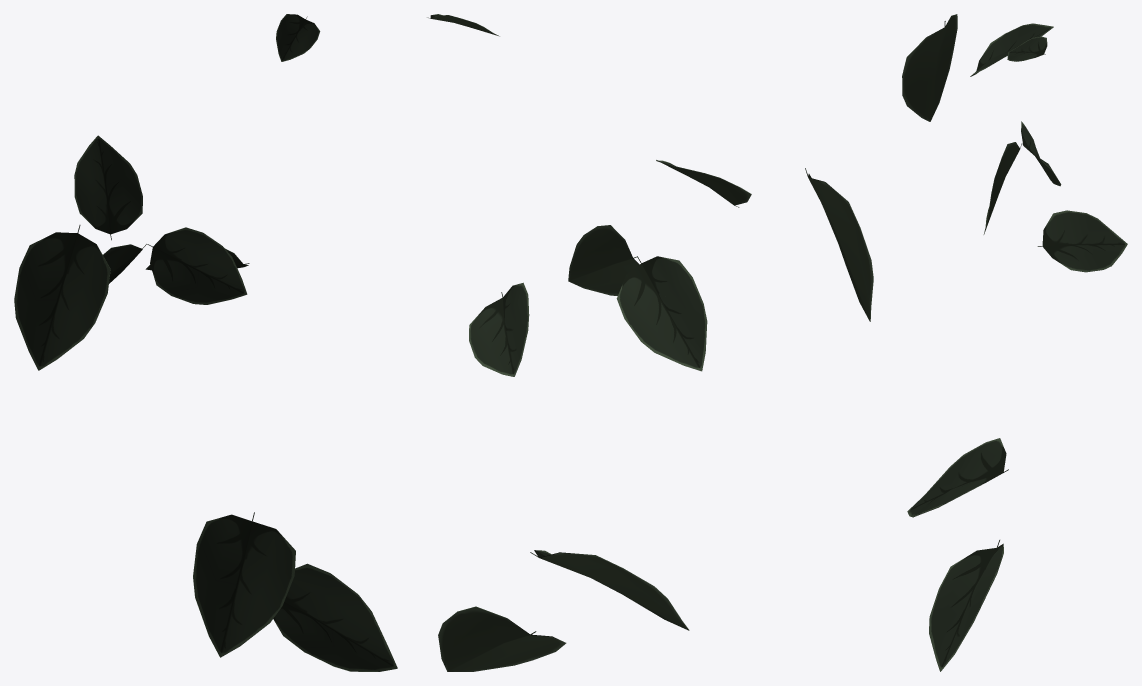
Rendered from Hibiskus_Blätter_MOD.FBX.
The picture shows the model from 3 angles, left to right: view 1: azimuth 30°, elevation 25°; view 2: azimuth 150°, elevation 25°; view 3: azimuth 270°, elevation 25°; orthographic projection. The views are drawn at different scales.
Parts seen in each view (by area): view 1: Blätter; view 2: Blätter; view 3: Blätter.
Part boxes in pixels (x1,y1,x2,y2): Blätter: (14, 14, 397, 671); Blätter: (427, 14, 873, 671); Blätter: (902, 14, 1127, 671).
Bounding box in the file's own units: 9.57 × 15.22 × 5.12.
Materials: 1 (1 with a texture image).
